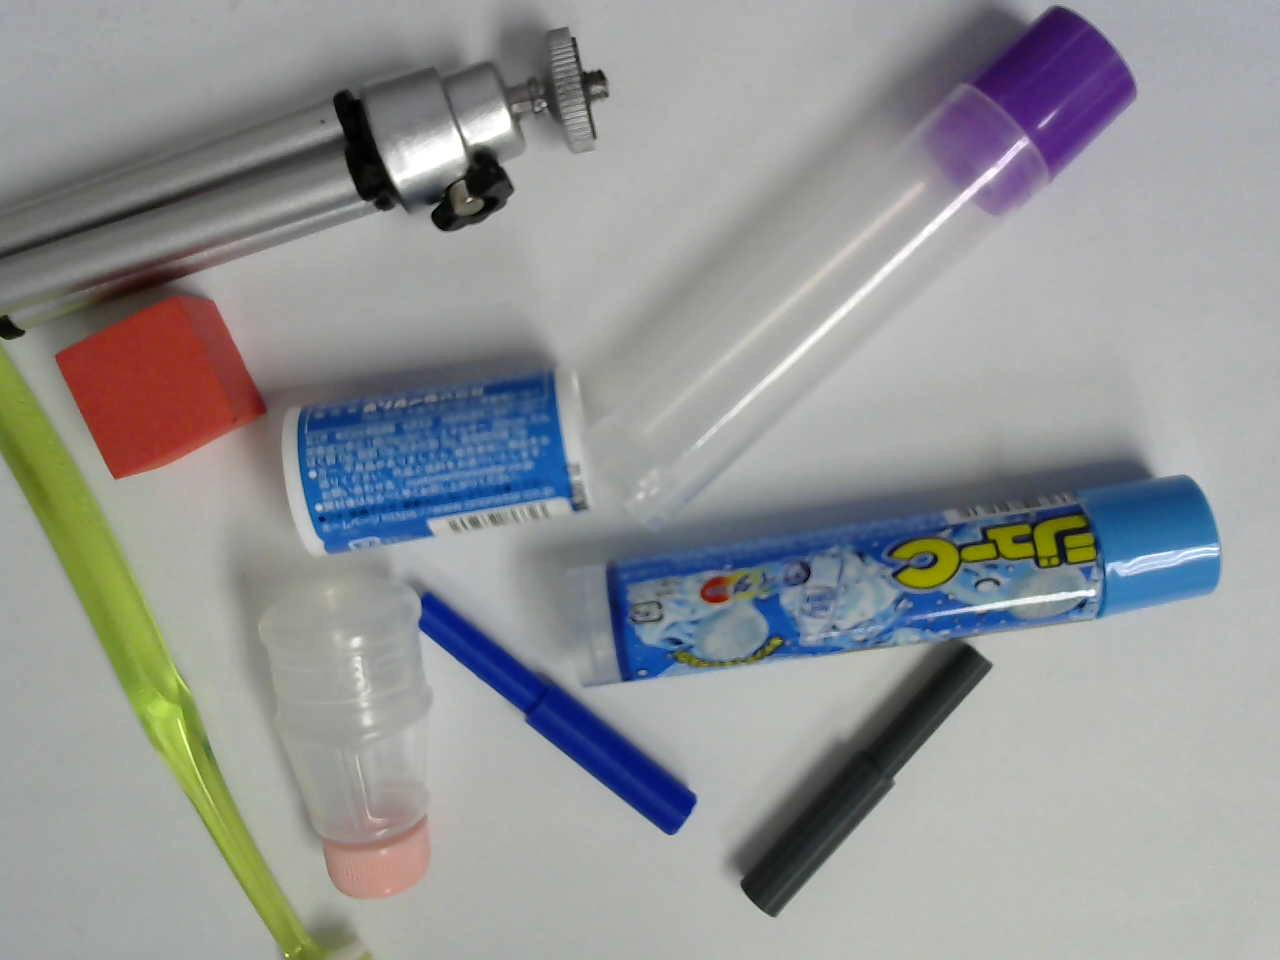block: (53, 293, 266, 481)
brush: (0, 344, 382, 958)
coke: (281, 368, 595, 560)
cup: (257, 576, 432, 899)
dai: (0, 27, 610, 338)
jyuc: (565, 477, 1220, 689)
jyuc_g: (572, 7, 1140, 536)
pen2: (418, 590, 697, 834)
pen_gray: (741, 644, 992, 919)
